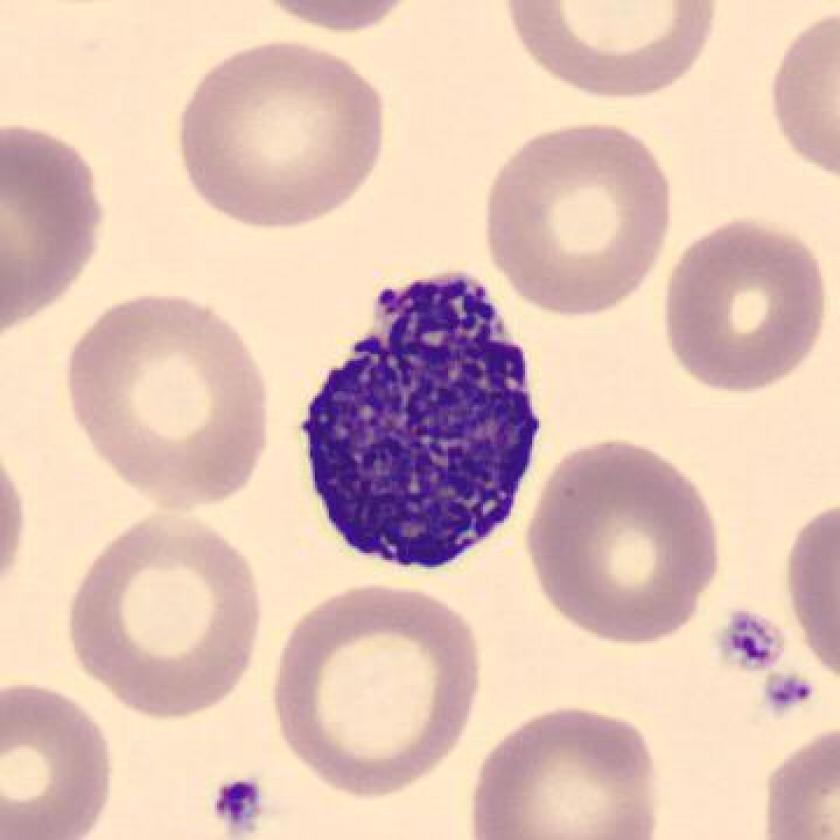basophil: (295, 253, 542, 582)
